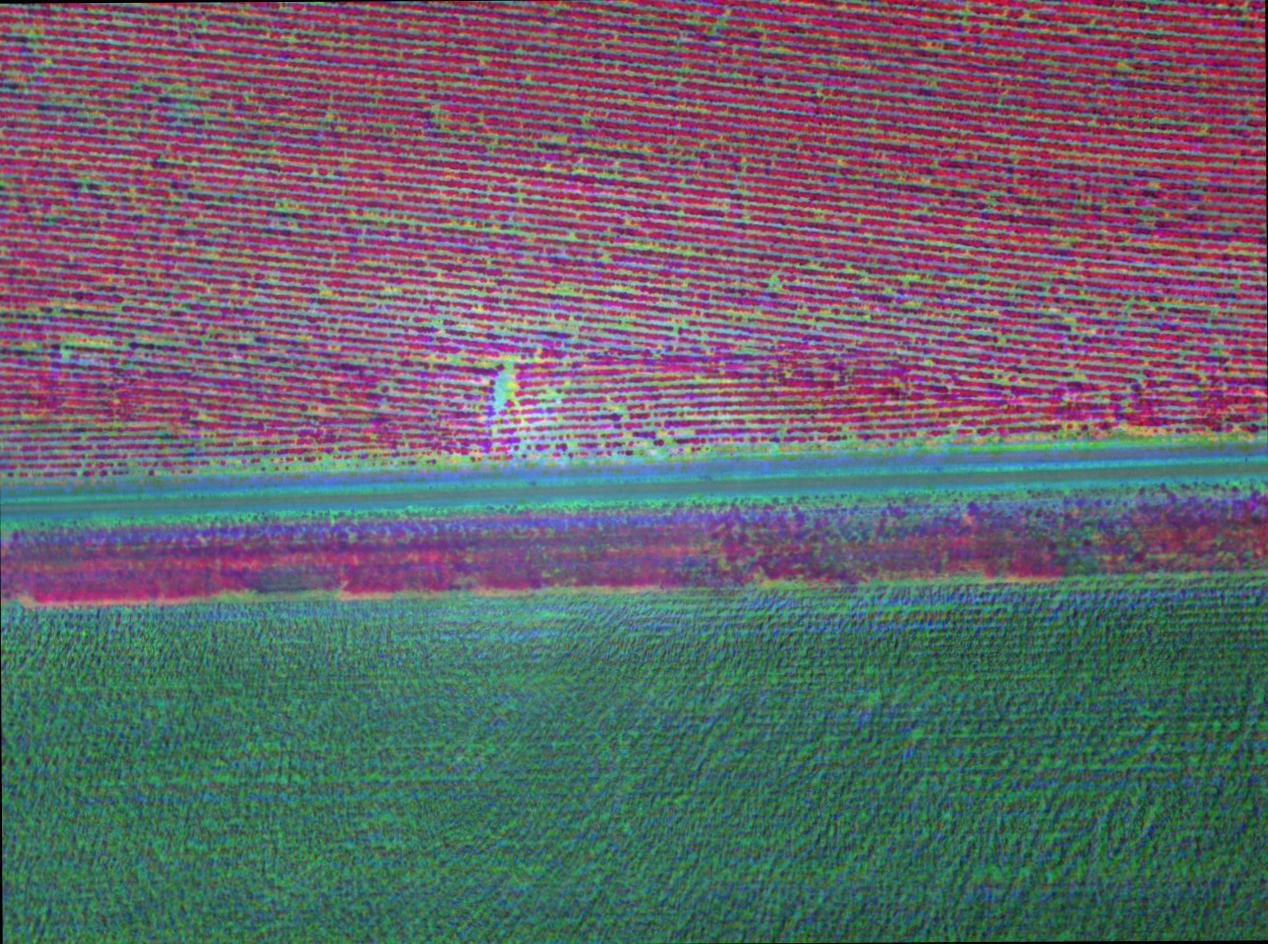dc: (770, 279, 778, 291), (500, 377, 510, 385), (322, 287, 330, 296), (559, 284, 566, 291), (603, 251, 608, 260)
